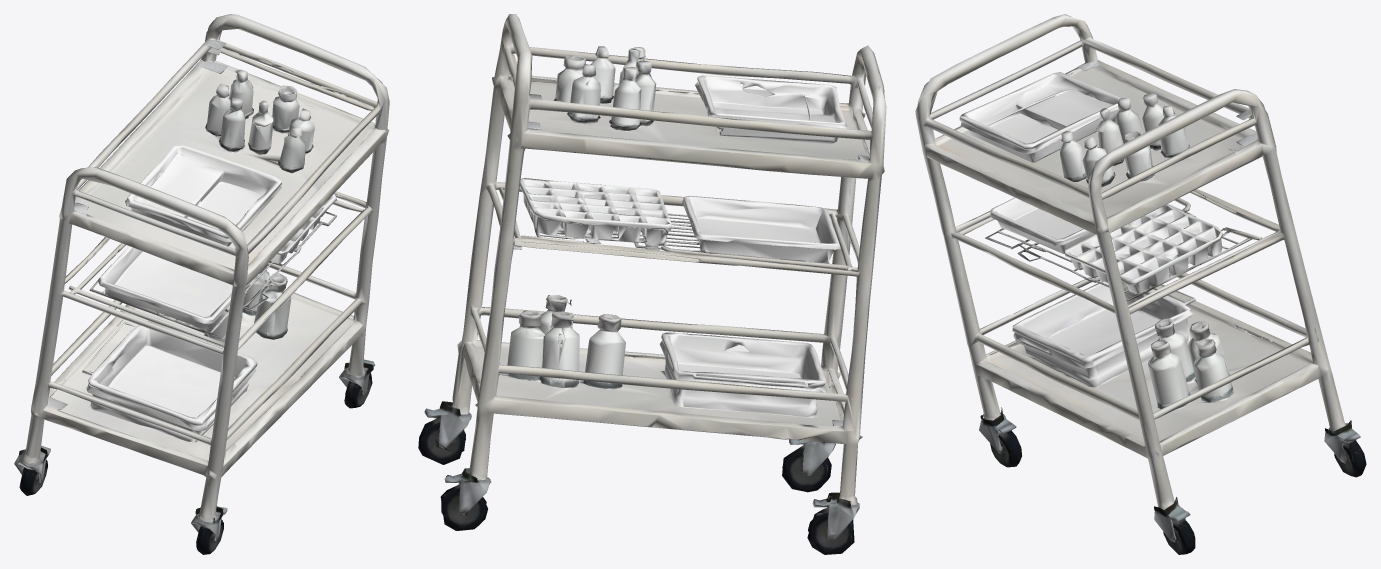
The model's file is lab_trolley.glb.
3 views of the same model, side by side, from view 1: azimuth 30°, elevation 25°; view 2: azimuth 150°, elevation 25°; view 3: azimuth 270°, elevation 25° (orthographic). The views are drawn at different scales.
Size of the model in its own units: 0.815 by 0.9009 by 0.8308.
Materials: 1 (1 with a texture image).
